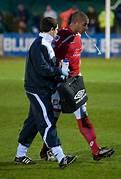Spitting: (68, 10, 102, 45)
